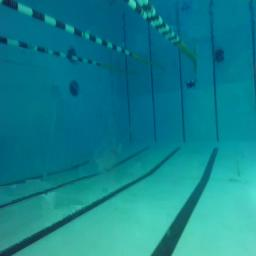Full: (214, 55, 226, 64), (186, 80, 196, 89)
